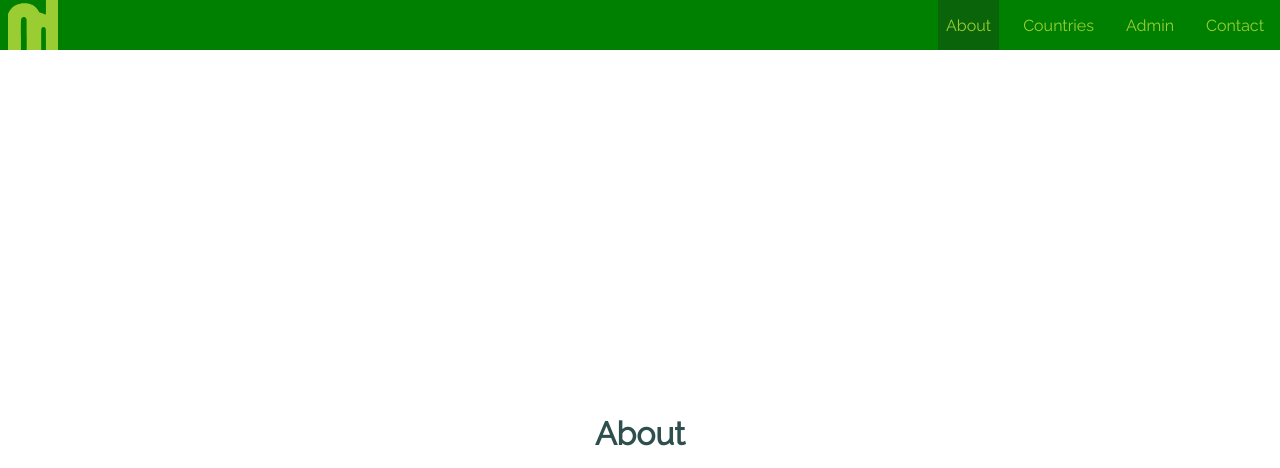
Test: App navigation › clicking on the contact link should go to the contact page
Step 1. Click the link "Contact" → (1235, 25), box [1206,16,1264,34]
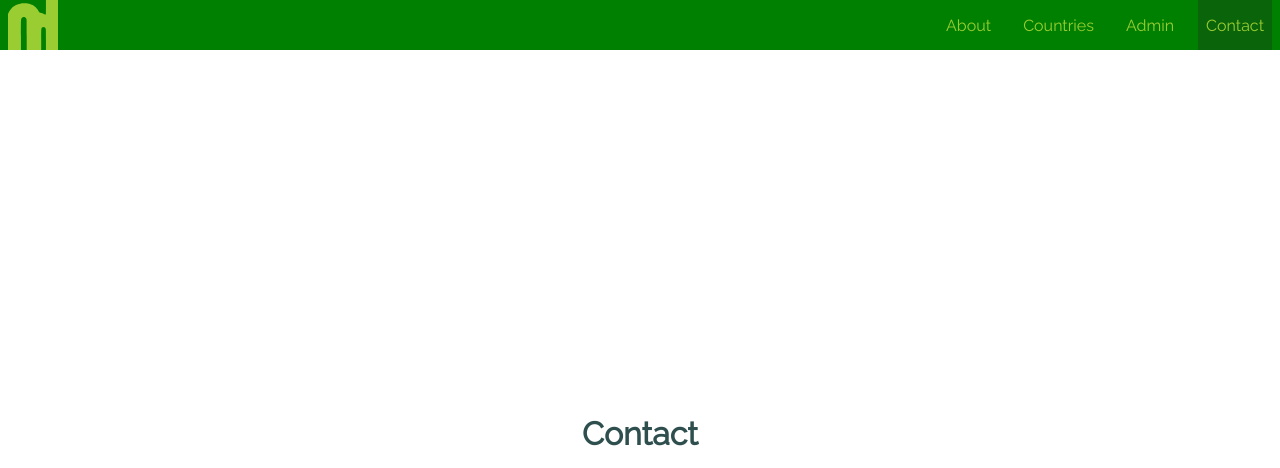
Now the heading "Contact" is shown, box [582,414,698,452]
